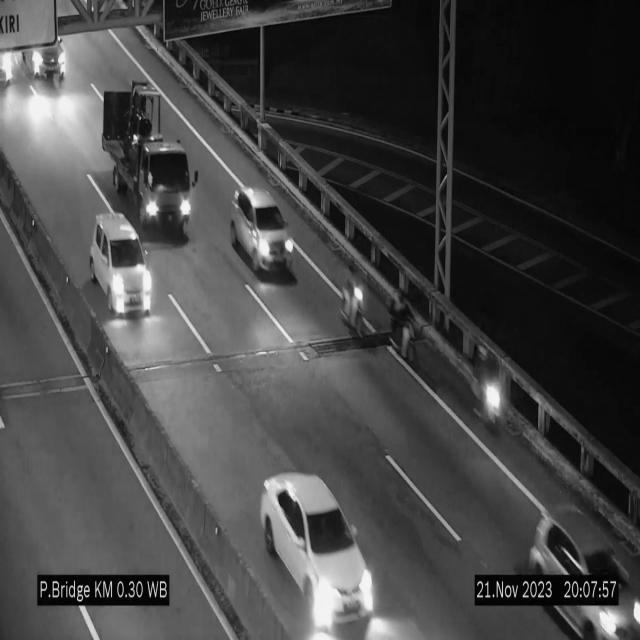Car: (260, 472, 376, 638), (90, 212, 152, 313), (230, 187, 294, 275)
Motorcycle: (471, 344, 504, 436), (340, 259, 372, 345), (391, 279, 413, 378)
Truck: (102, 82, 196, 242)
